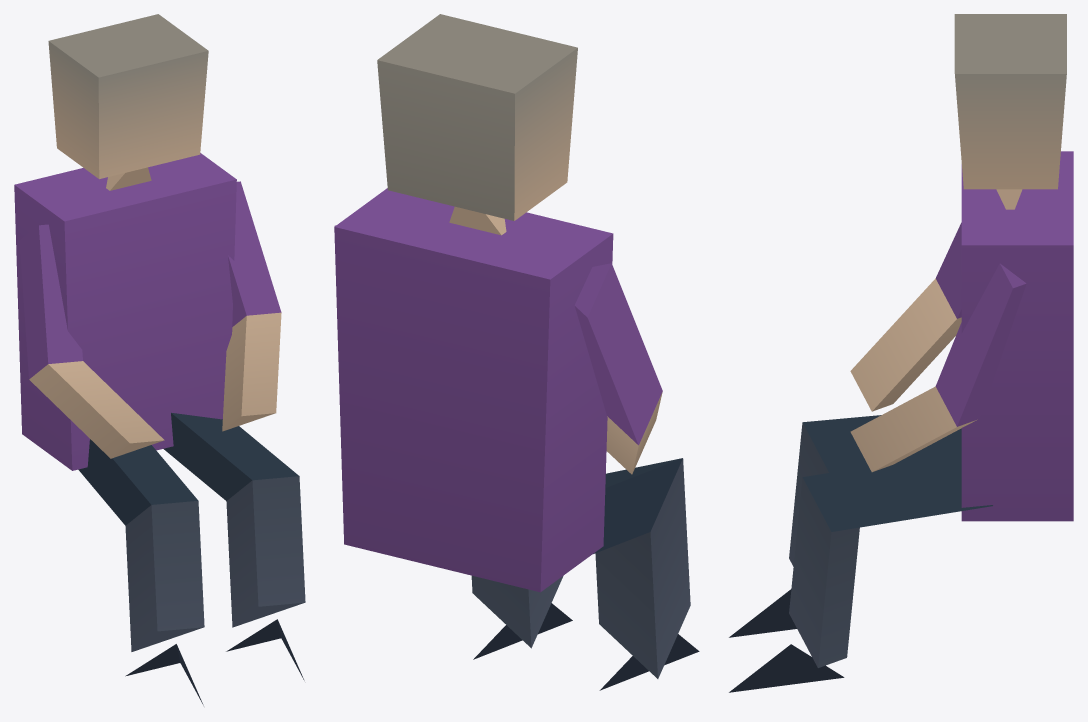
The model's file is fan-08.glb.
The picture shows the model from 3 angles, left to right: view 1: azimuth 30°, elevation 25°; view 2: azimuth 150°, elevation 25°; view 3: azimuth 270°, elevation 25°; orthographic projection. The views are drawn at different scales.
Visible parts, largest first — view 1: fan-08; view 2: fan-08; view 3: fan-08.
Part boxes in pixels (x1,y1,x2,y2): fan-08: (14, 14, 305, 705); fan-08: (334, 14, 699, 690); fan-08: (729, 14, 1073, 692).
Size of the model in its own units: 0.6975 by 1.53 by 0.77.
